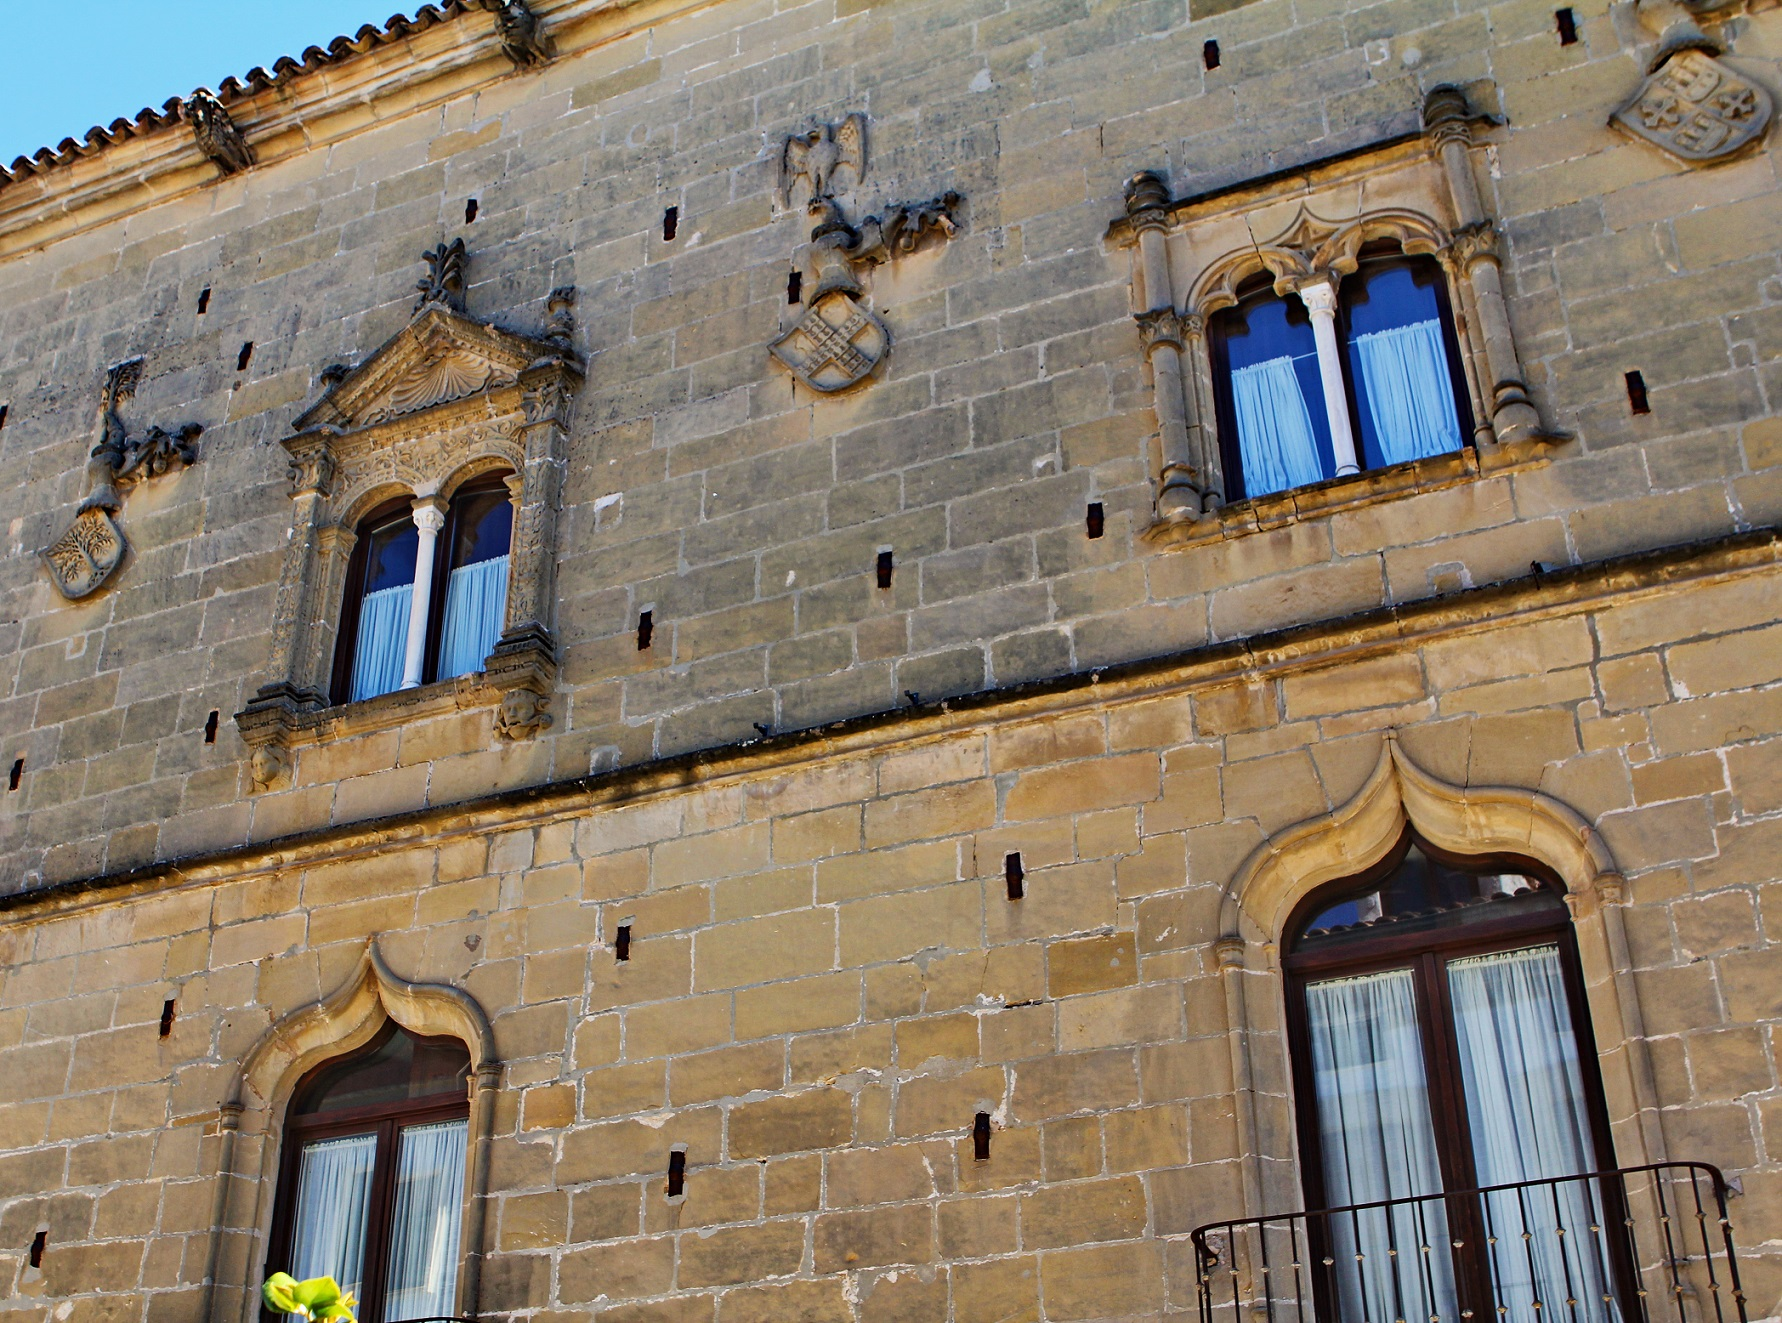arco-conopial: (1213, 718, 1612, 884), (1186, 197, 1441, 311), (232, 937, 488, 1048)
fronton: (282, 297, 575, 434)
